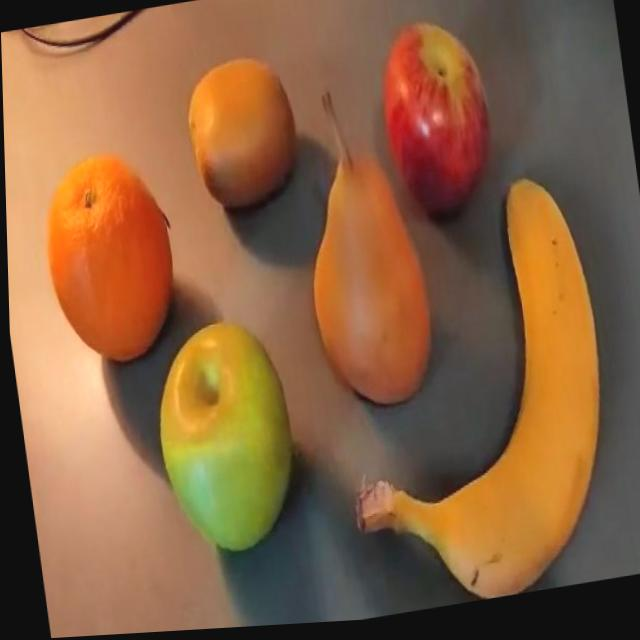Apple: (142, 315, 302, 565), (369, 16, 500, 231)
Banana: (311, 175, 626, 624)
Orange: (33, 146, 184, 374)
